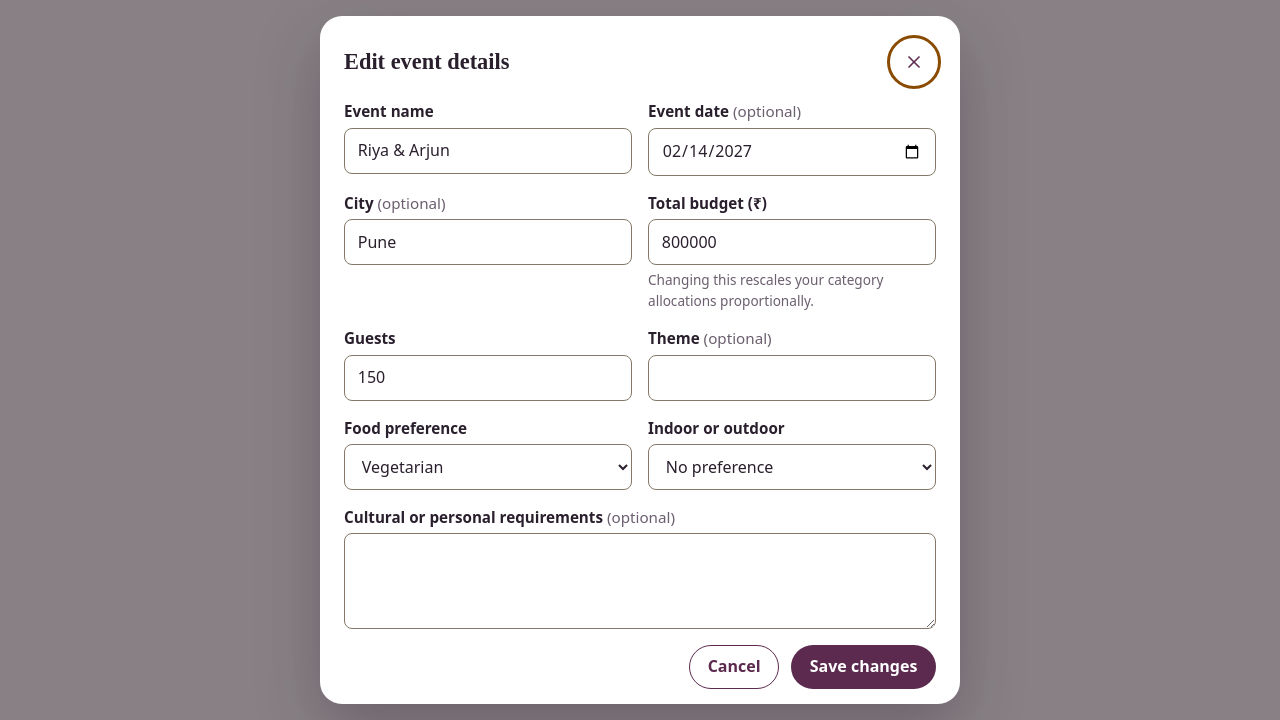
Scenario: EditEventDialog › explains an invalid budget instead of saving
Replace the text in the field labelled "Total budget (₹)" with "lots" at (792, 242), box left=648, top=219, right=936, bottom=265
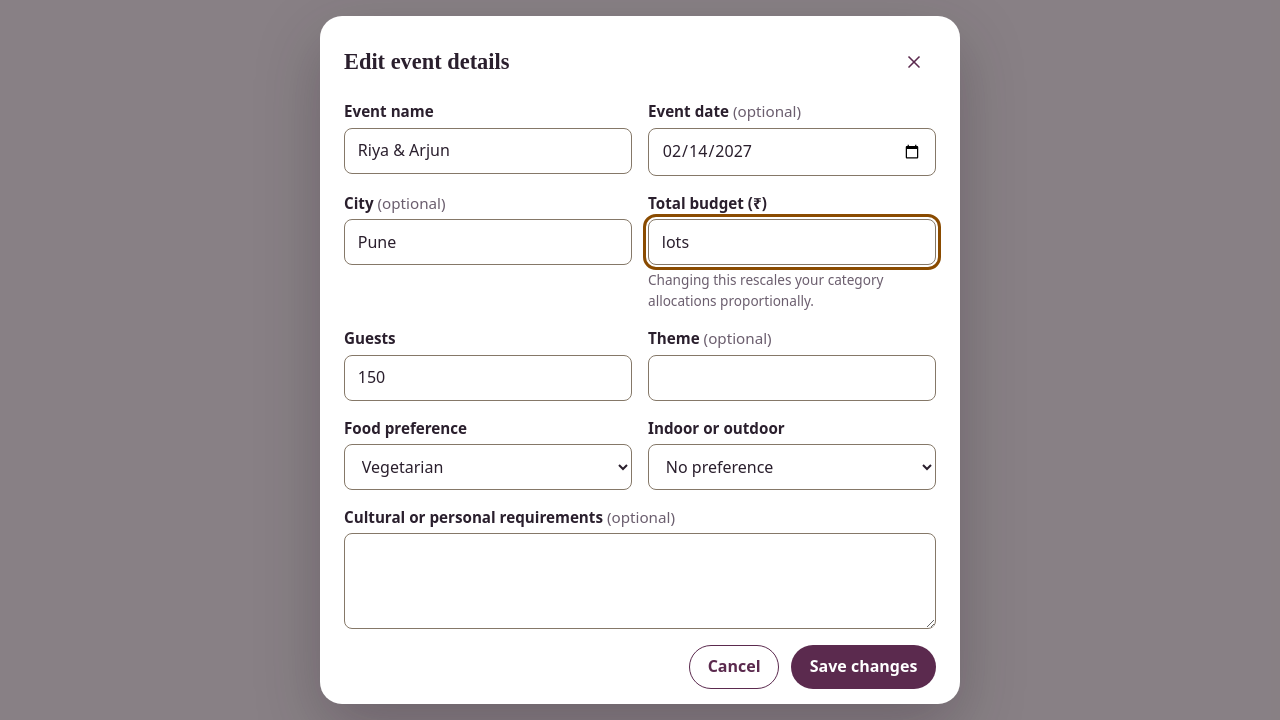
Click the button "Save changes" at (864, 667), box left=791, top=645, right=936, bottom=689
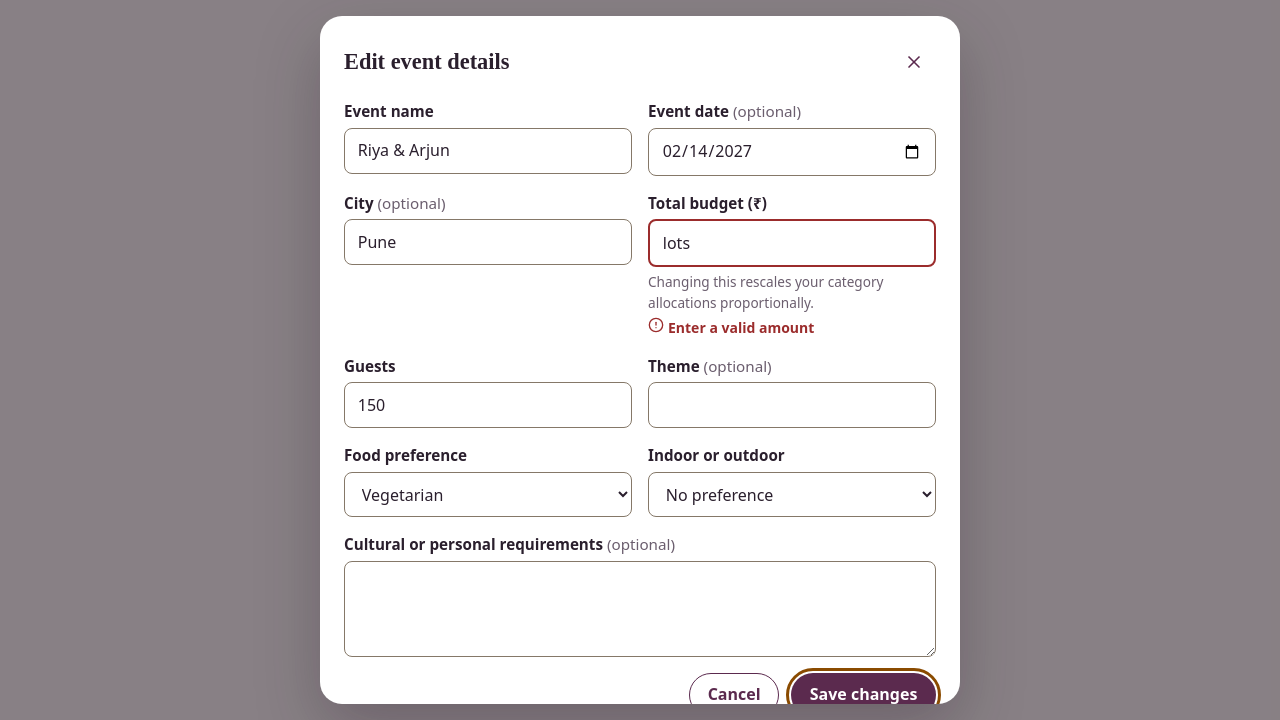
Result: the text "Enter a valid amount" is shown at left=648, top=317, right=814, bottom=337
